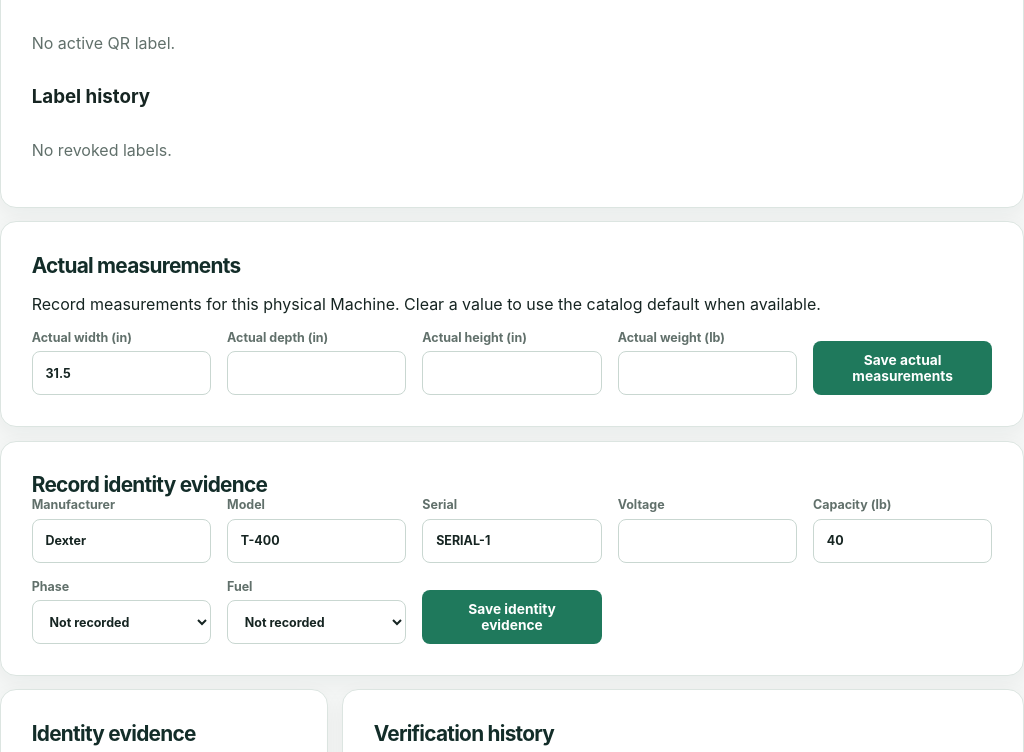
Machine Catalog facts › keeps the saved measurements visible when an override save fails
The width and height of the screenshot is (1024, 752).
(page scrolled)
Click the button "Save actual measurements" at [903, 368], box [813,341,992,395]
(page scrolled)
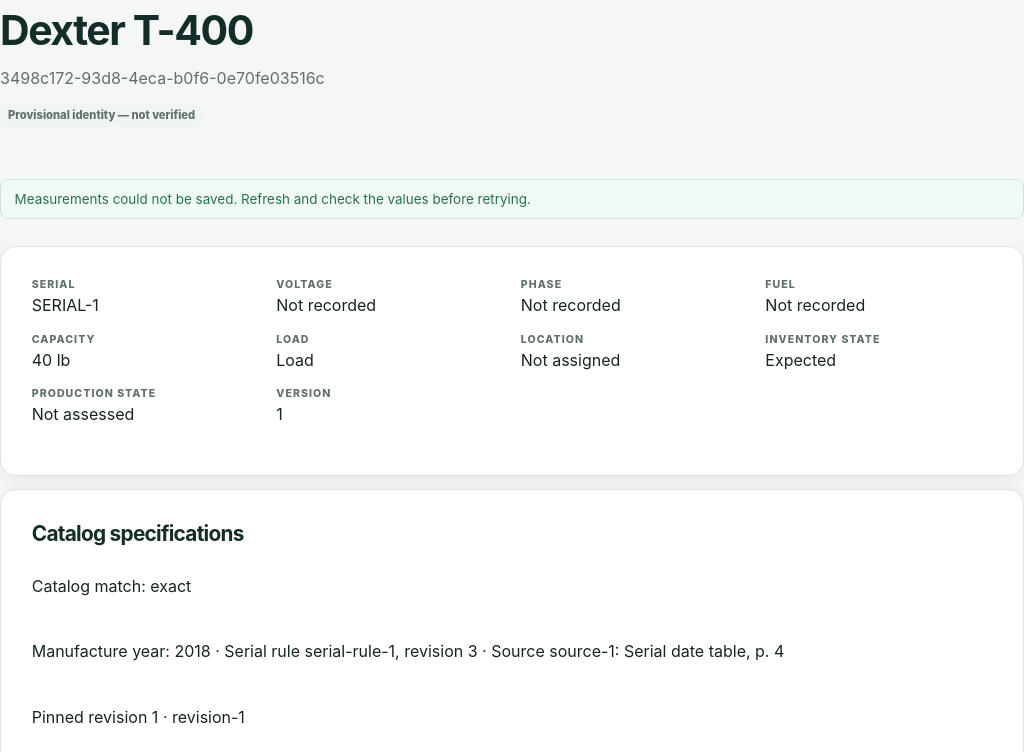
Expected: the text "Measurements could not be saved. Refresh and check the values before retrying." is shown, [0,179,1023,219]
